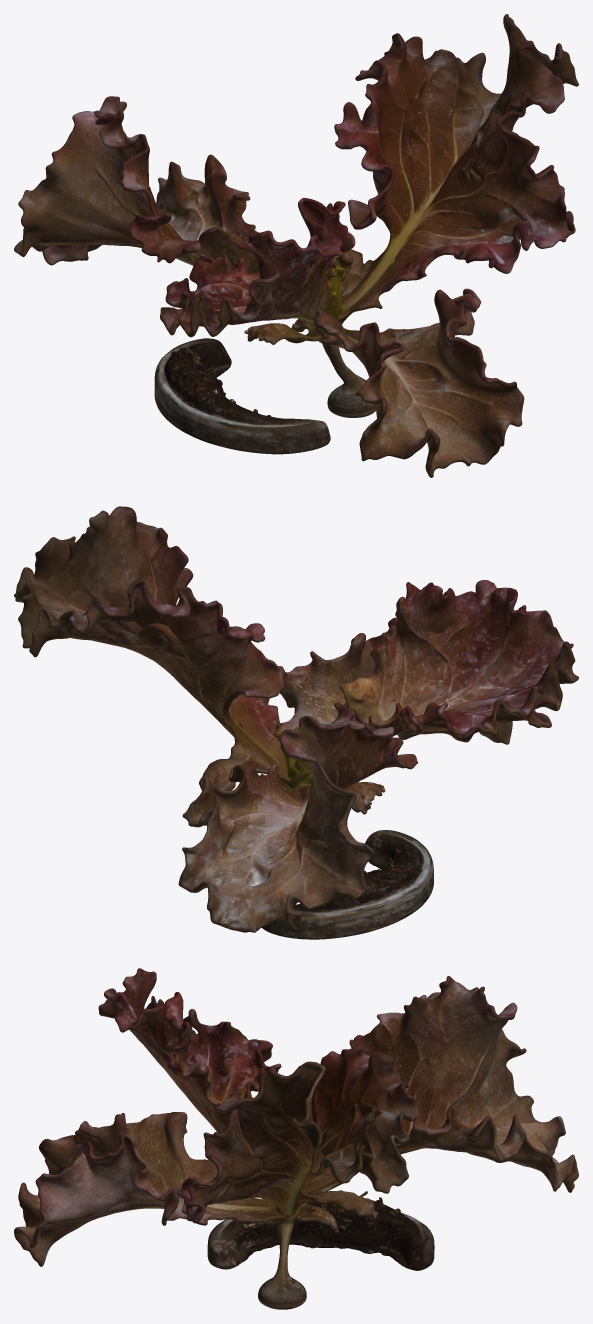
File: orbital_vegetative.glb
3 views of the same model, one above another, from view 1: azimuth 30°, elevation 25°; view 2: azimuth 150°, elevation 25°; view 3: azimuth 270°, elevation 25° (orthographic). The views are drawn at different scales.
Parts seen in each view (by area): view 1: tripo_node_bb3100c3-6136-439a-b5ad-6edd82f72645; view 2: tripo_node_bb3100c3-6136-439a-b5ad-6edd82f72645; view 3: tripo_node_bb3100c3-6136-439a-b5ad-6edd82f72645.
Part boxes in pixels (x1,y1,x2,y2): tripo_node_bb3100c3-6136-439a-b5ad-6edd82f72645: (14,14,578,477); tripo_node_bb3100c3-6136-439a-b5ad-6edd82f72645: (14,506,578,939); tripo_node_bb3100c3-6136-439a-b5ad-6edd82f72645: (14,968,578,1309).
Size of the model in its own units: 0.916 by 0.624 by 1.
Materials: 1 (1 with a texture image).
